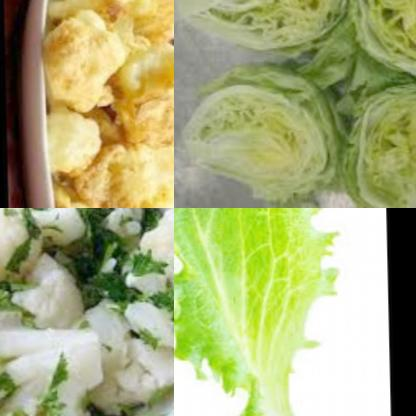cayliflower: (0, 208, 174, 416), (52, 0, 174, 208)
salad: (174, 208, 362, 416), (174, 55, 341, 200), (174, 0, 364, 61), (331, 76, 416, 208), (329, 0, 416, 89)
